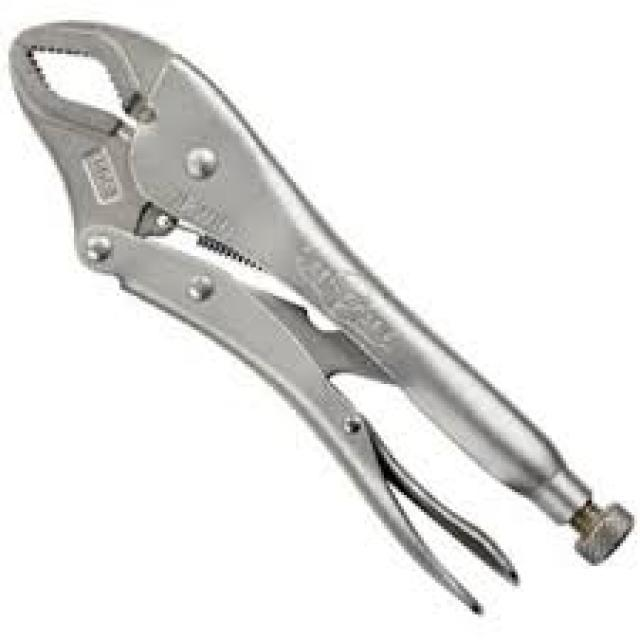pliers: (0, 12, 629, 614)
